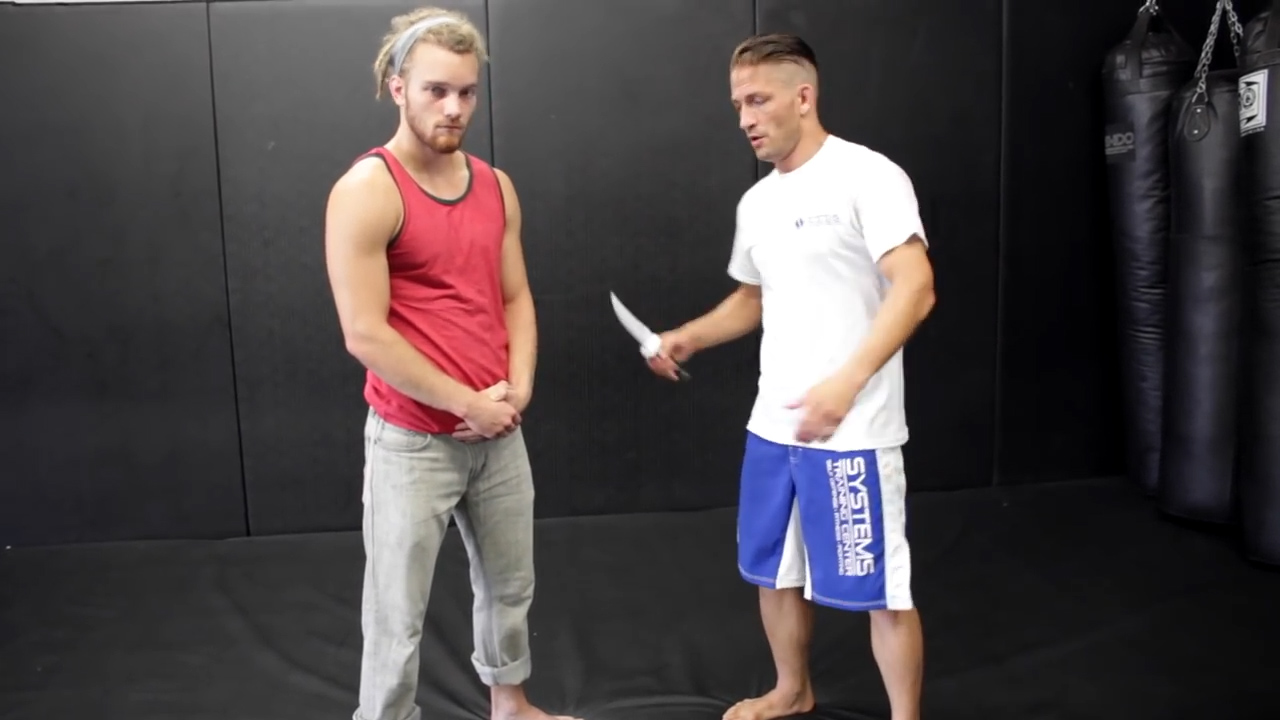knife: (601, 279, 698, 388)
